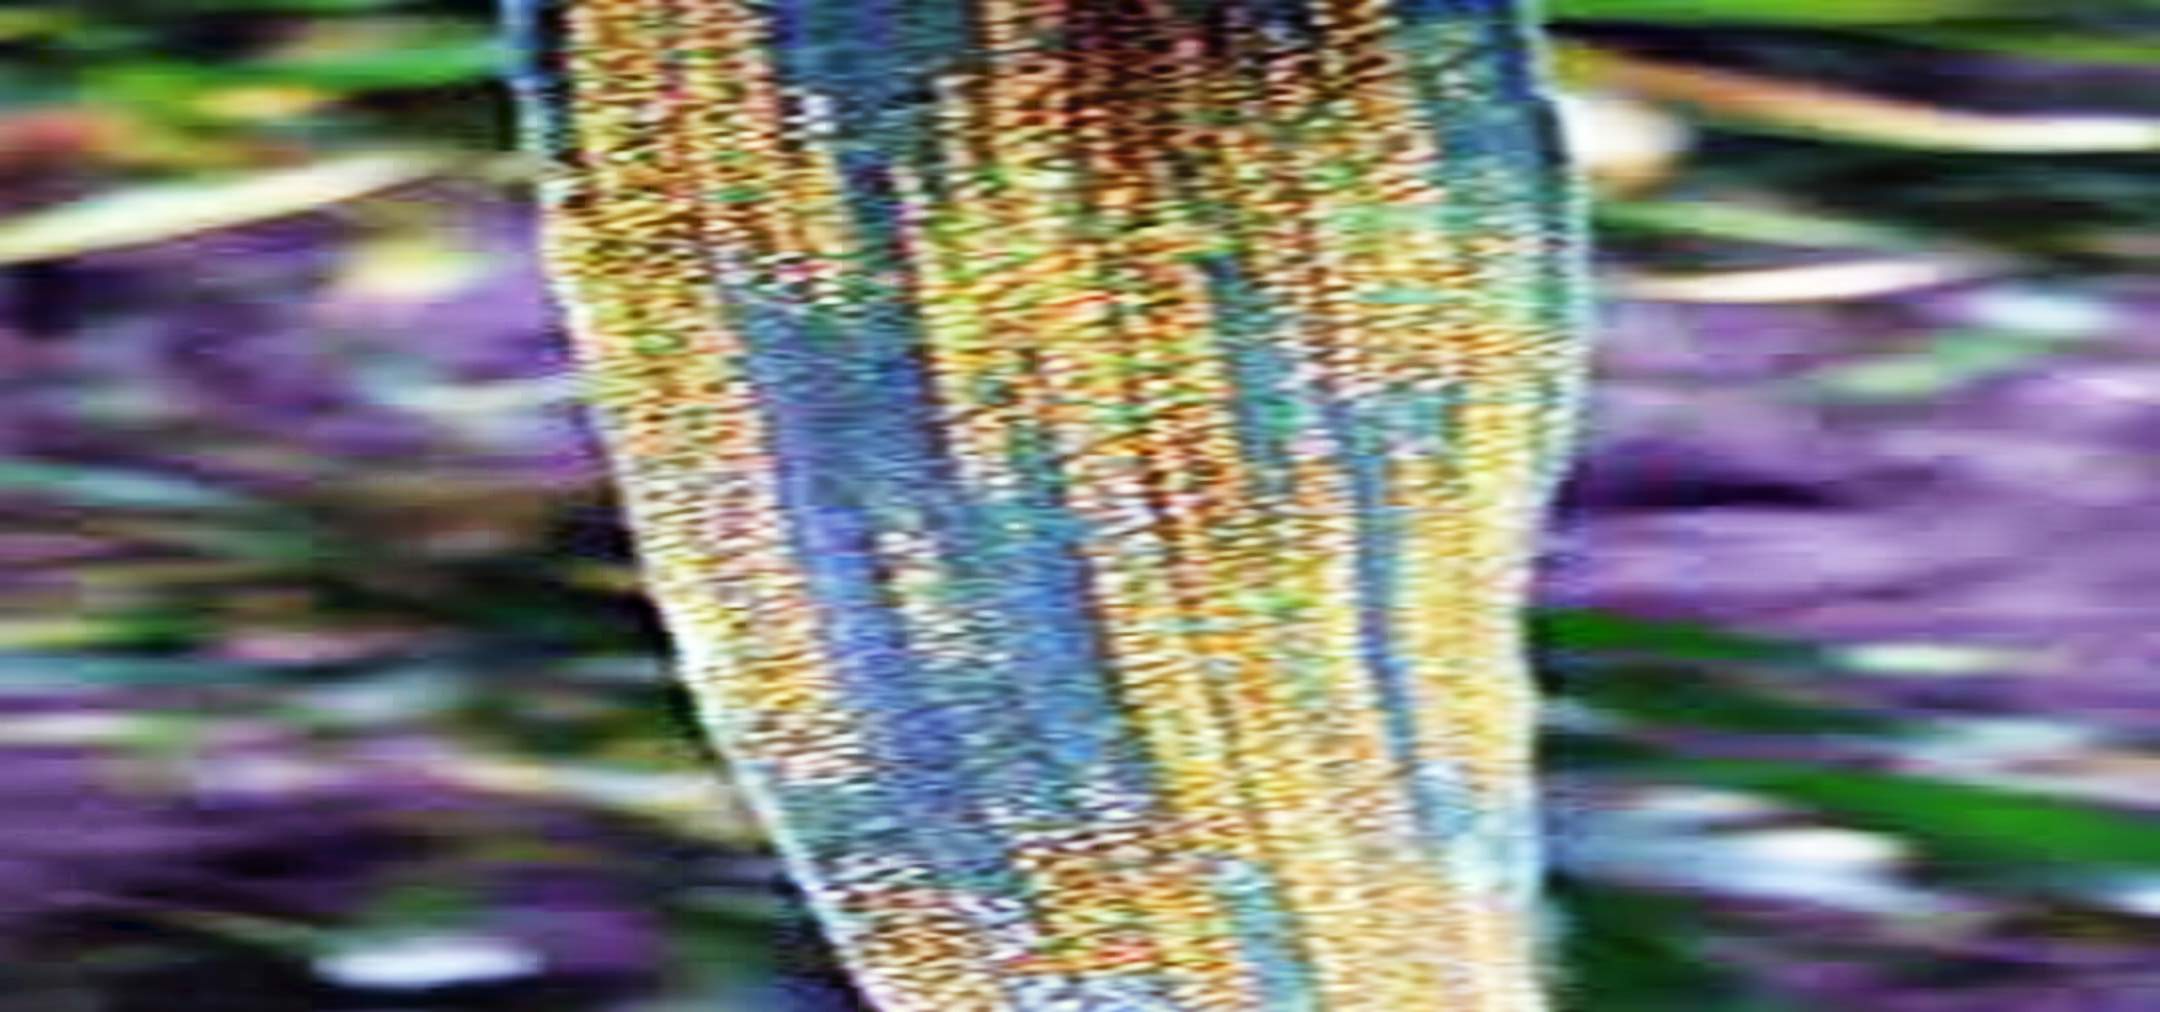Leaf Rust: (576, 36, 1510, 585)
